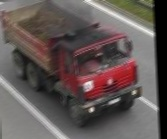truck: (0, 0, 145, 130)
